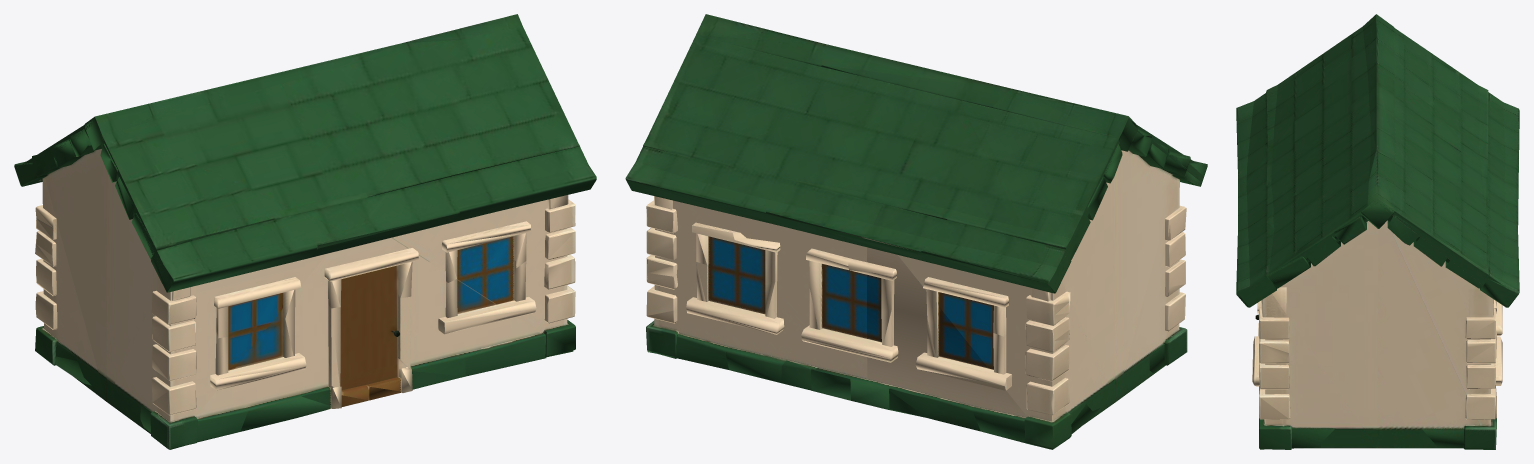
Rendered from detailed-house-c.glb.
3 views of the same model, side by side, from view 1: azimuth 30°, elevation 25°; view 2: azimuth 150°, elevation 25°; view 3: azimuth 270°, elevation 25° (orthographic). The views are drawn at different scales.
Bounding box in the file's own units: 1 × 0.6523 × 0.6523.
Materials: 1 (1 with a texture image).
